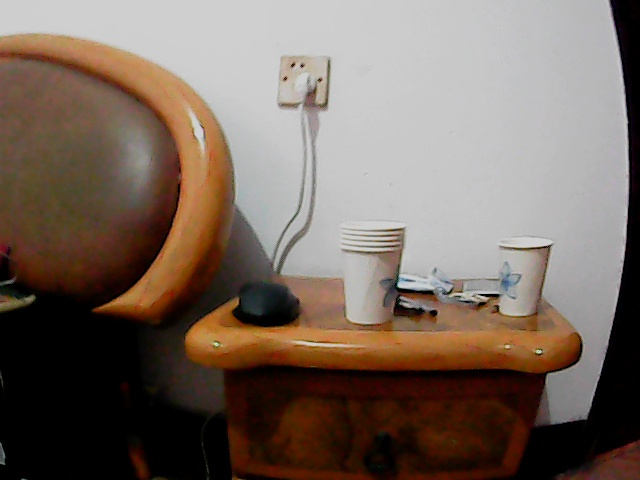cup: (340, 219, 405, 330)
mouse: (230, 279, 306, 326)
